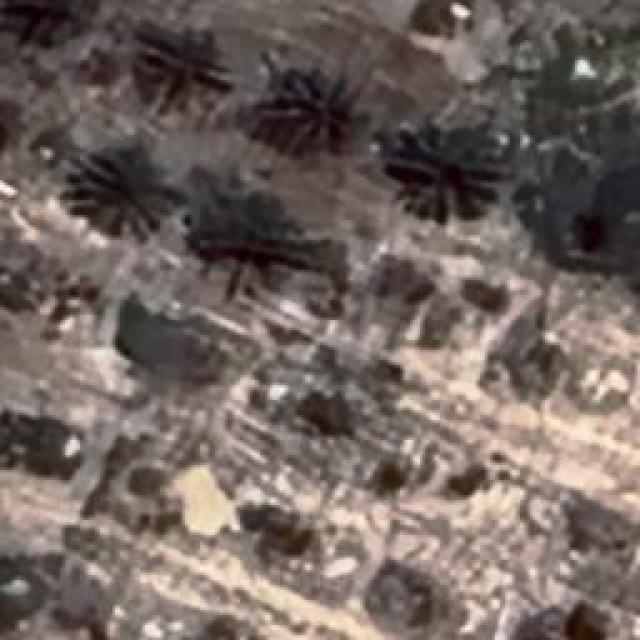PalmTree: (184, 185, 294, 283), (394, 128, 498, 222), (78, 148, 172, 236), (264, 70, 358, 152), (135, 29, 240, 99), (0, 0, 111, 44)
